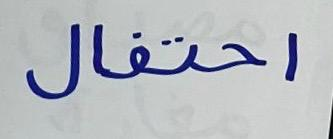hah: (206, 29, 272, 84)
lam: (17, 16, 85, 106)
noon: (156, 28, 204, 83)
qaf: (112, 26, 155, 84)
teh: (88, 17, 110, 87)
zain: (283, 23, 301, 86)
